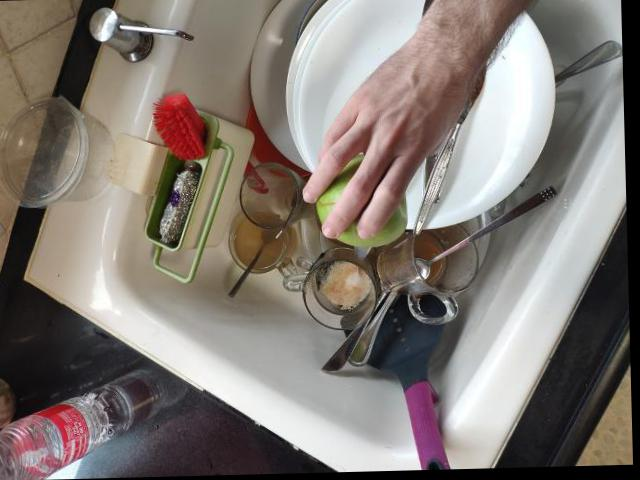apple: (314, 150, 412, 248)
